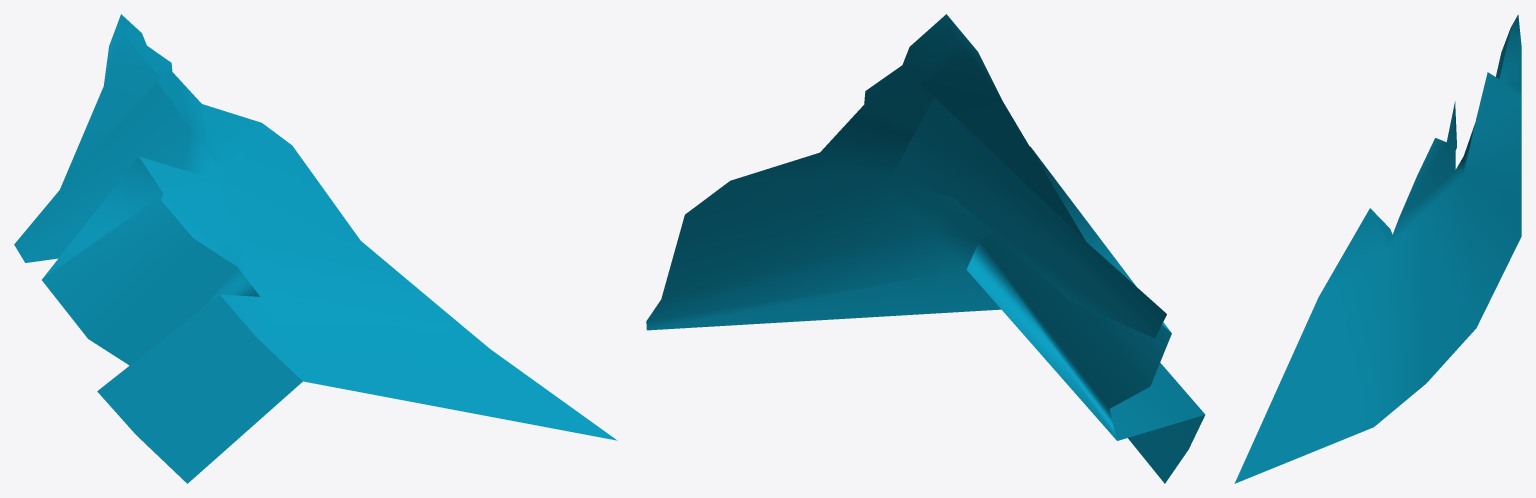
Rendered from mountain_01.fbx.
3 renders of one model, left to right at view 1: azimuth 30°, elevation 25°; view 2: azimuth 150°, elevation 25°; view 3: azimuth 270°, elevation 25°, orthographic. The views are drawn at different scales.
Visible parts, largest first — view 1: mountain01_Mesh; view 2: mountain01_Mesh; view 3: mountain01_Mesh.
Boxes of the visible parts, x1,y1,x2,y2 form: mountain01_Mesh: [14, 14, 617, 483]; mountain01_Mesh: [646, 14, 1205, 483]; mountain01_Mesh: [1234, 14, 1521, 483].
Size of the model in its own units: 33.16 by 26.7 by 20.97.
